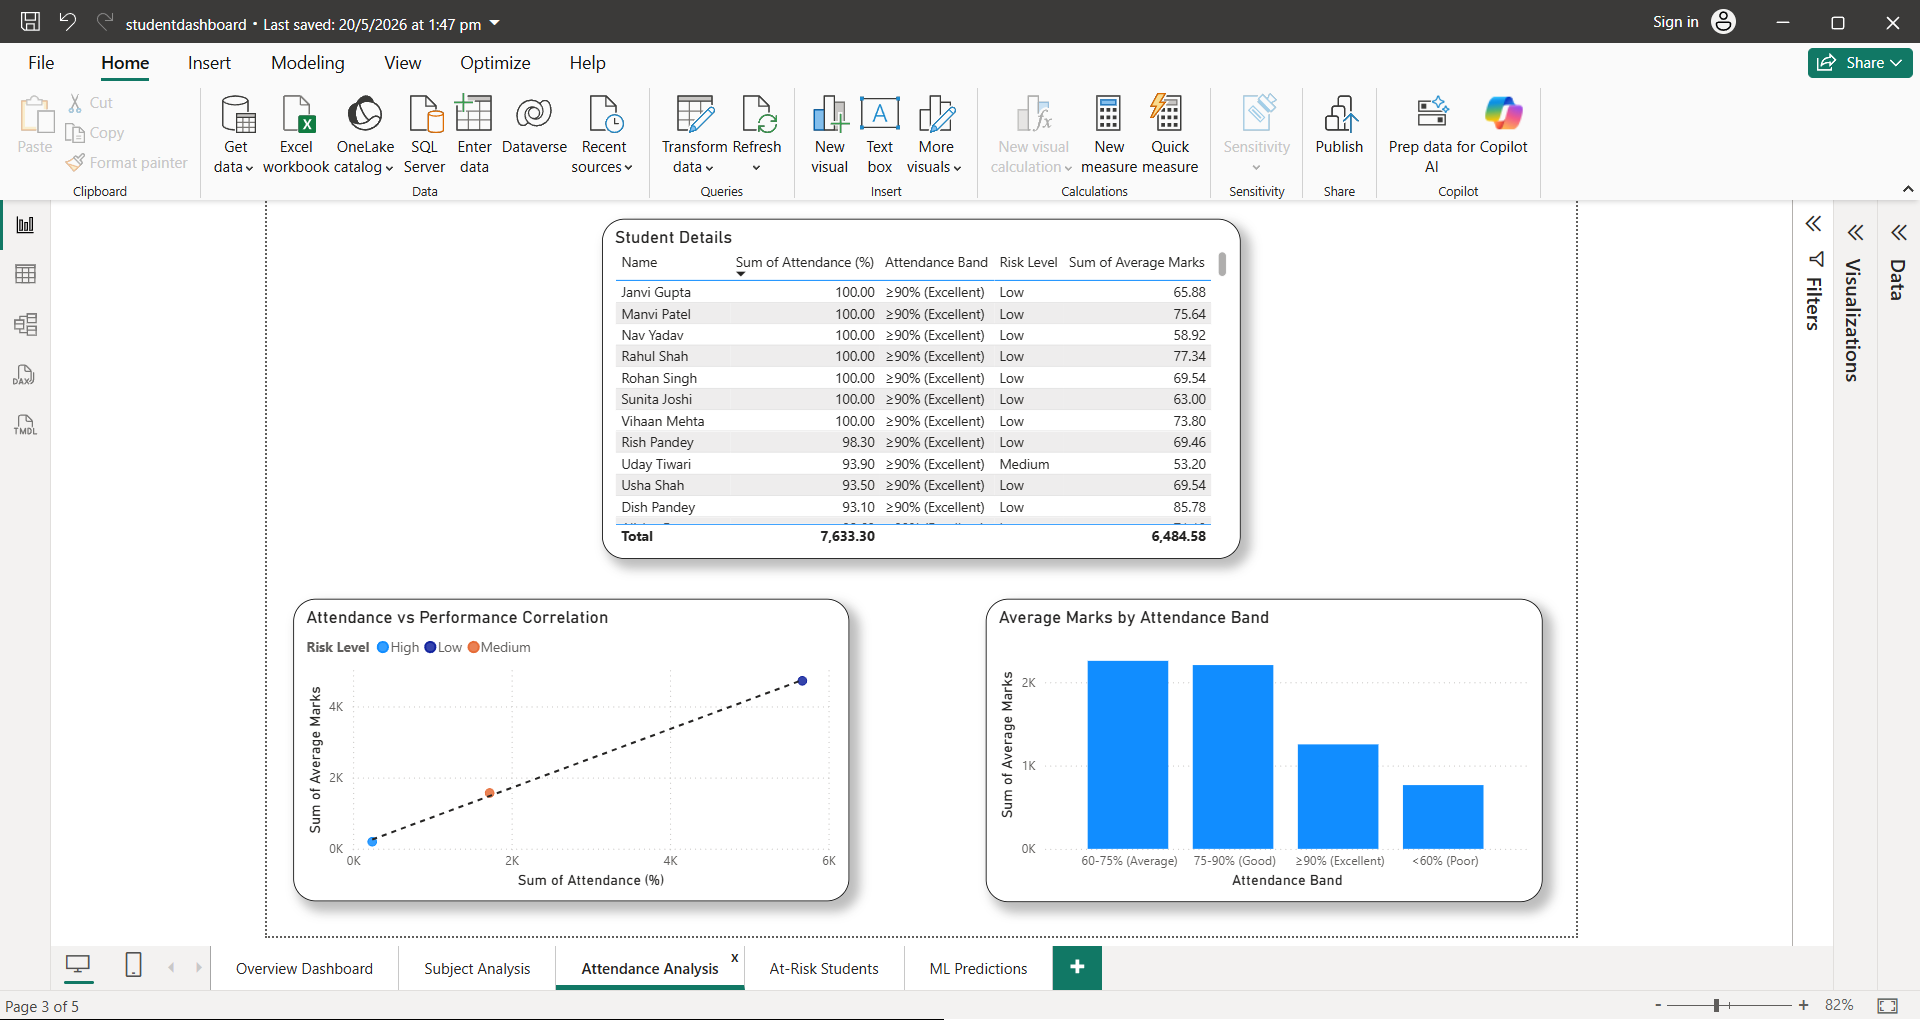

The dashboard page shown, as its layout file describes it:
{"tool":"powerbi","page":{"name":"Attendance Analysis","canvas":[1280,720],"ordinal":2},"visuals":[{"type":"scatterChart","title":"Attendance vs Performance Correlation","fields":{"X":["Sum(Attendance Analysis.Attendance (%))"],"Y":["Sum(Attendance Analysis.Average Marks)"],"Series":["Attendance Analysis.Risk Level"]},"box":[26,390.1,543.8,296.2],"z":0},{"type":"clusteredColumnChart","title":"Average Marks by Attendance Band","fields":{"Category":["Attendance Analysis.Attendance Band"],"Y":["Sum(Attendance Analysis.Average Marks)"]},"box":[703.2,390,544.7,296.7],"z":1000},{"type":"tableEx","title":"Student Details","fields":{"Values":["Attendance Analysis.Name","Sum(Attendance Analysis.Attendance (%))","Attendance Analysis.Attendance Band","Attendance Analysis.Risk Level","Sum(Attendance Analysis.Average Marks)"]},"box":[327.8,18.5,624.4,332.6],"z":2000}]}

Visuals, with their boxes on the page's 1280x720 design canvas (x1, y1, x2, y2). These are canvas units, not pixel positions in the 1920x1020 screenshot, which may show the page scaled, cropped or inside an application window:
"Attendance vs Performance Correlation" scatterChart: <region>26, 390, 570, 686</region>
"Average Marks by Attendance Band" clusteredColumnChart: <region>703, 390, 1248, 687</region>
"Student Details" tableEx: <region>328, 18, 952, 351</region>
